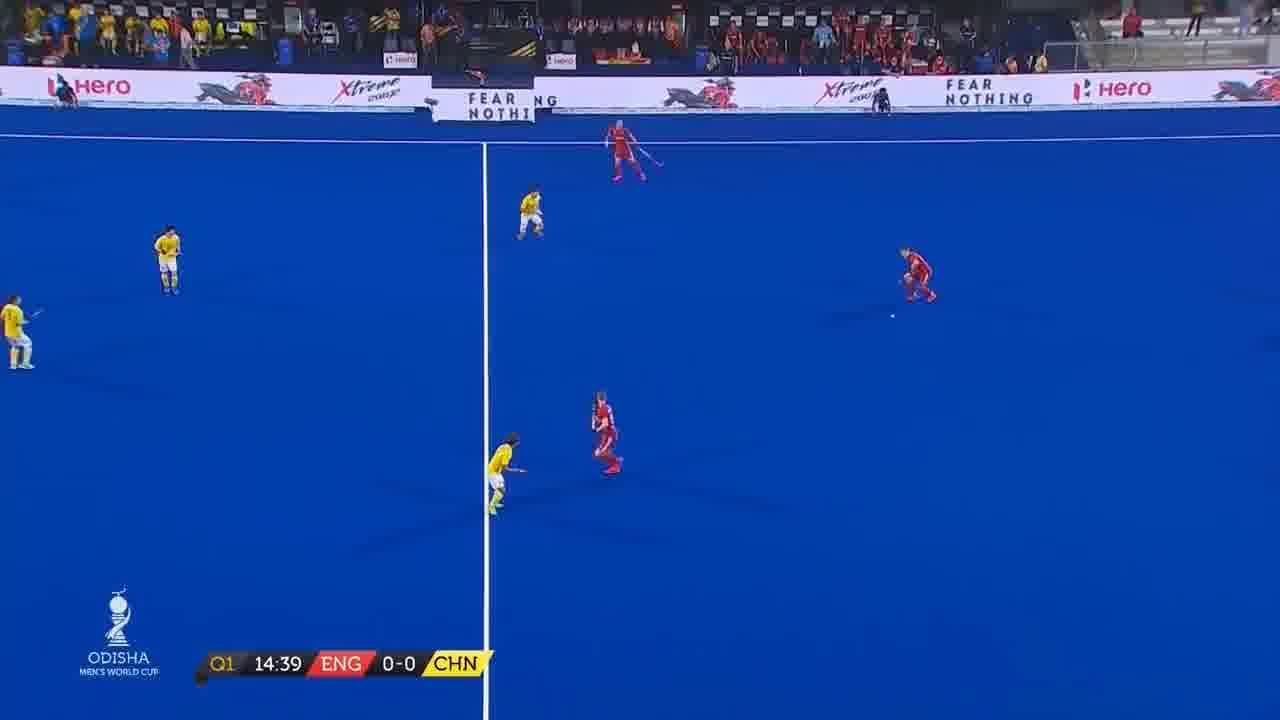ball: (883, 302, 906, 329)
